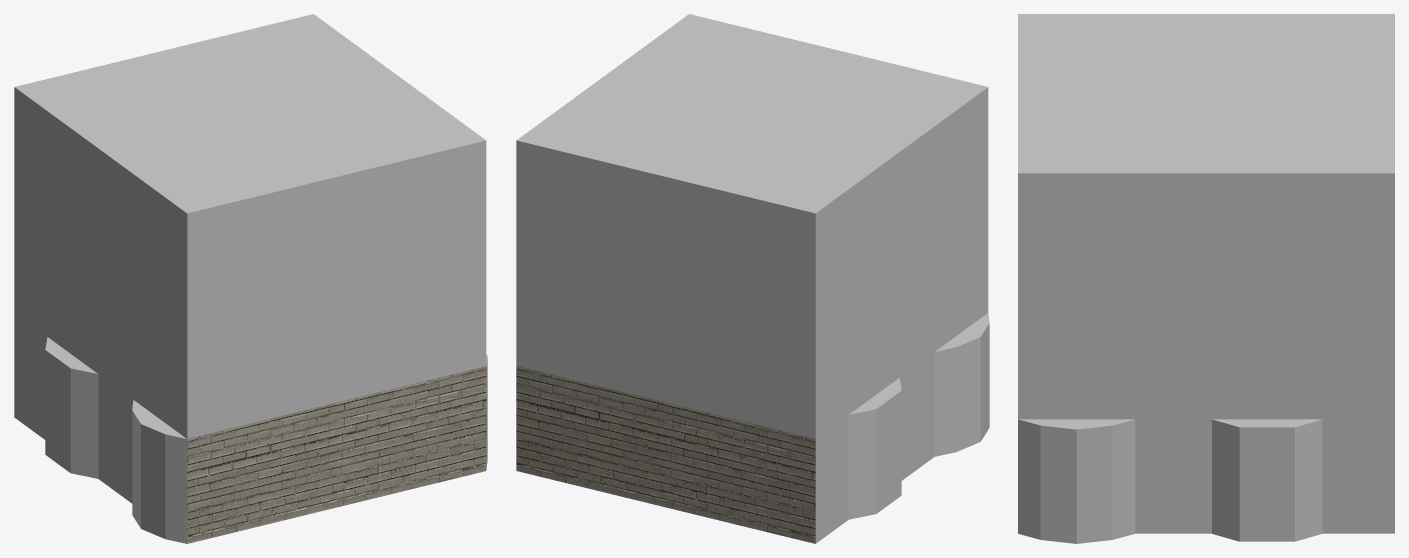
The model's file is SM_Facade_Townhouse_01.fbx.
3 renders of one model, left to right at view 1: azimuth 30°, elevation 25°; view 2: azimuth 150°, elevation 25°; view 3: azimuth 270°, elevation 25°, orthographic. The views are drawn at different scales.
Parts seen in each view (by area): view 1: SM_Facade_Townhouse_01; view 2: SM_Facade_Townhouse_01; view 3: SM_Facade_Townhouse_01.
Boxes of the visible parts, <box> form: SM_Facade_Townhouse_01: <box>14,14,487,543</box>; SM_Facade_Townhouse_01: <box>516,14,989,543</box>; SM_Facade_Townhouse_01: <box>1018,14,1394,543</box>.
Size of the model in its own units: 1015 by 950 by 900.
